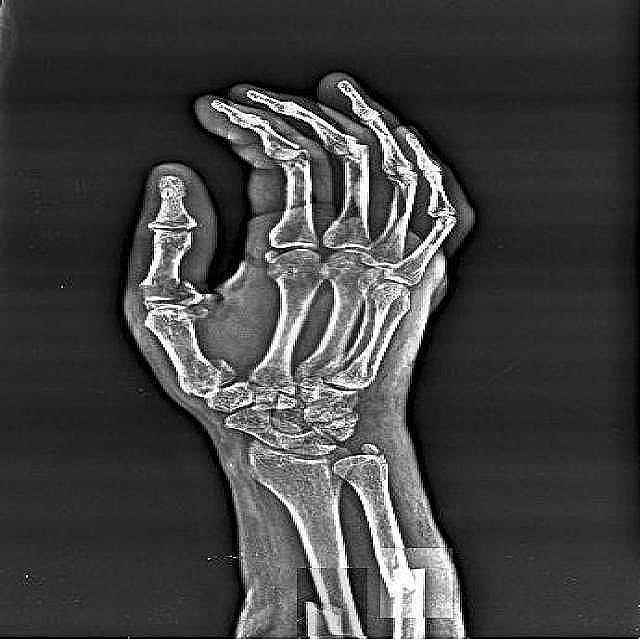bone: (382, 548, 455, 618), (298, 569, 368, 637)
